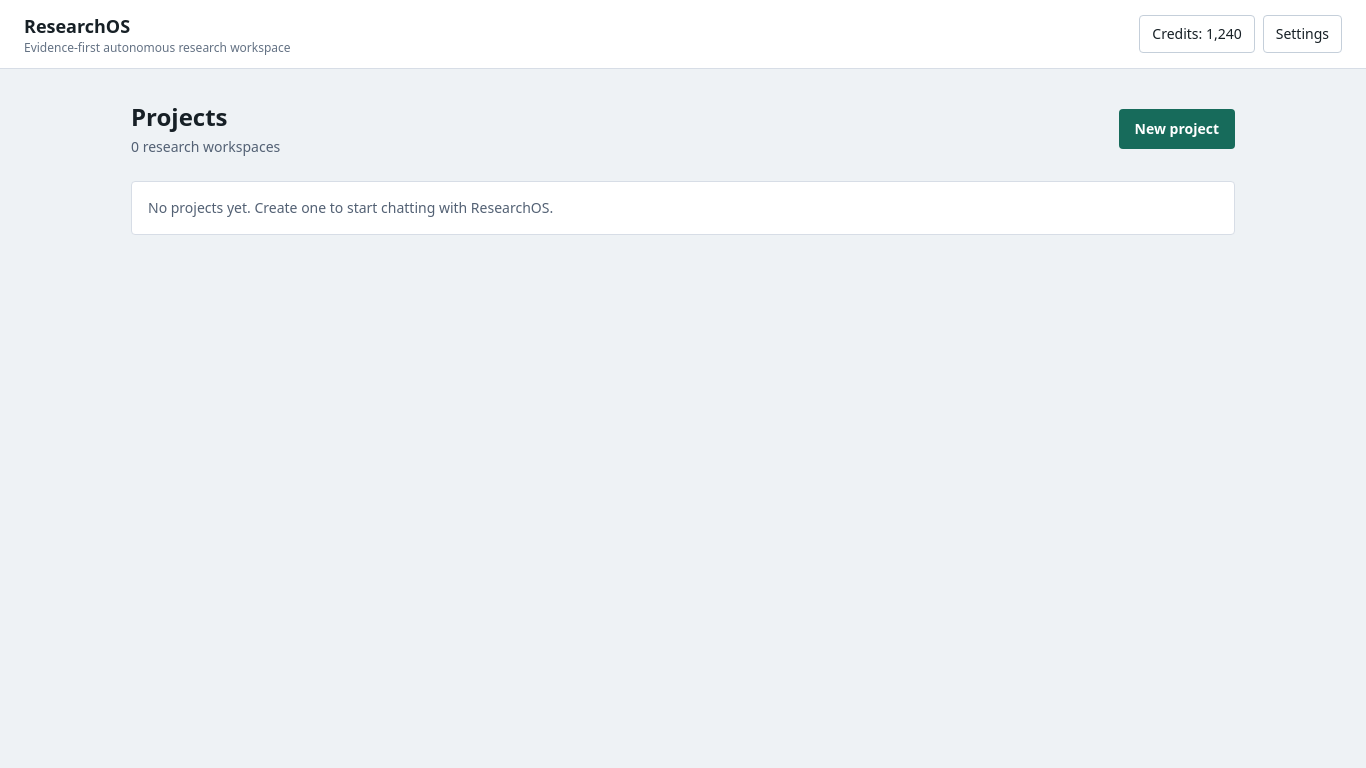
Scenario: creates a project from the in-page dialog
This screenshot has width=1366, height=768.
Expected: the text "No projects yet. Create one to start chatting with ResearchOS." is shown, [131, 181, 1235, 235]
Click the button "New project". click: (1177, 129)
box: [1119, 109, 1235, 149]
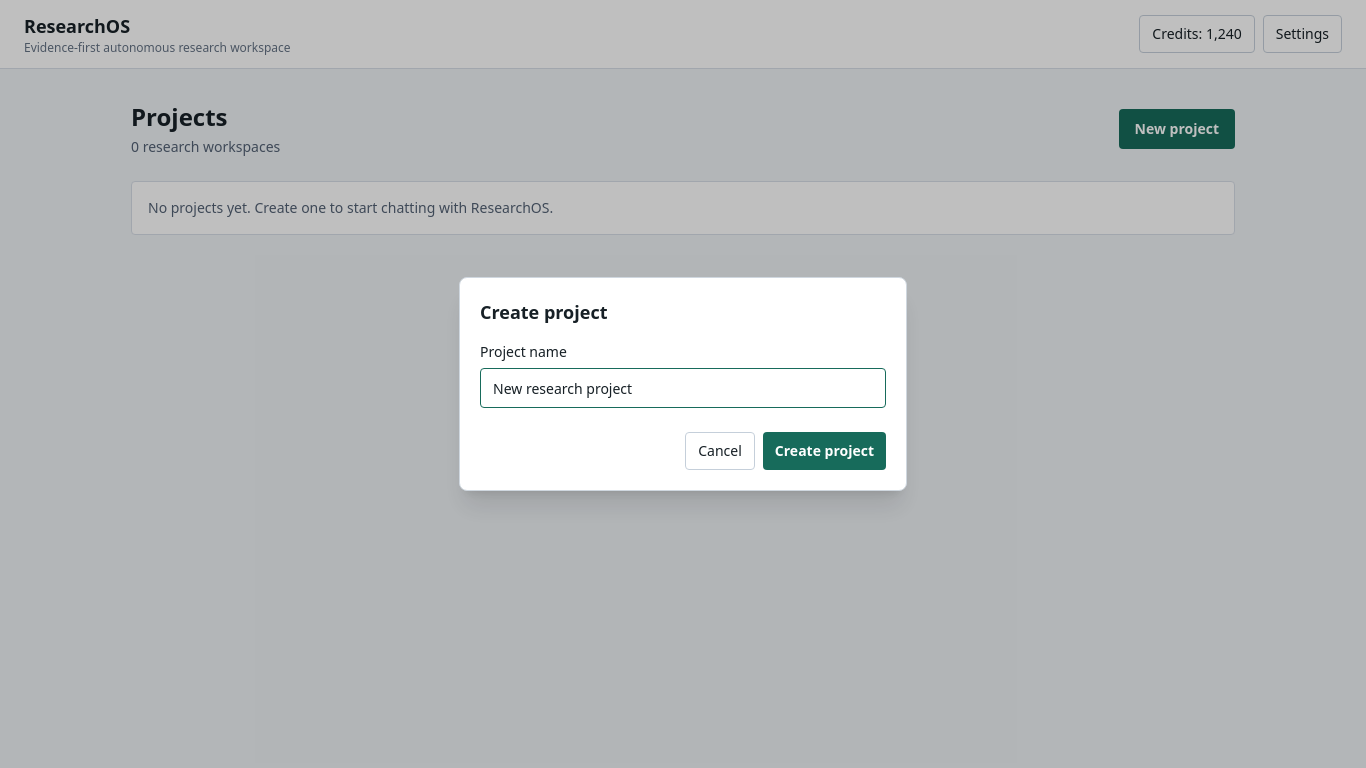
Replace the text in the field named "New project name" with "Browser QA". click: (683, 388)
box: [480, 368, 886, 408]
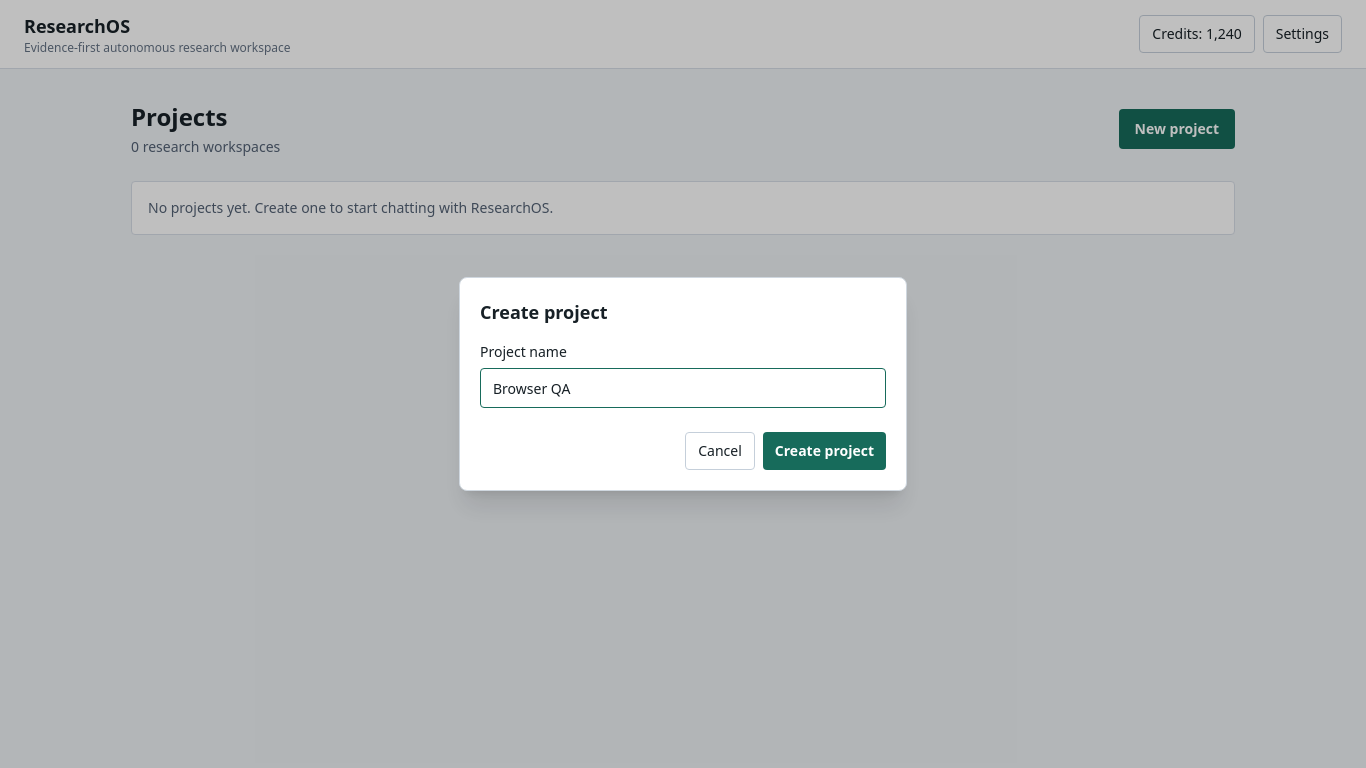
Click the button "Create project". click: (824, 451)
box: [763, 432, 886, 470]
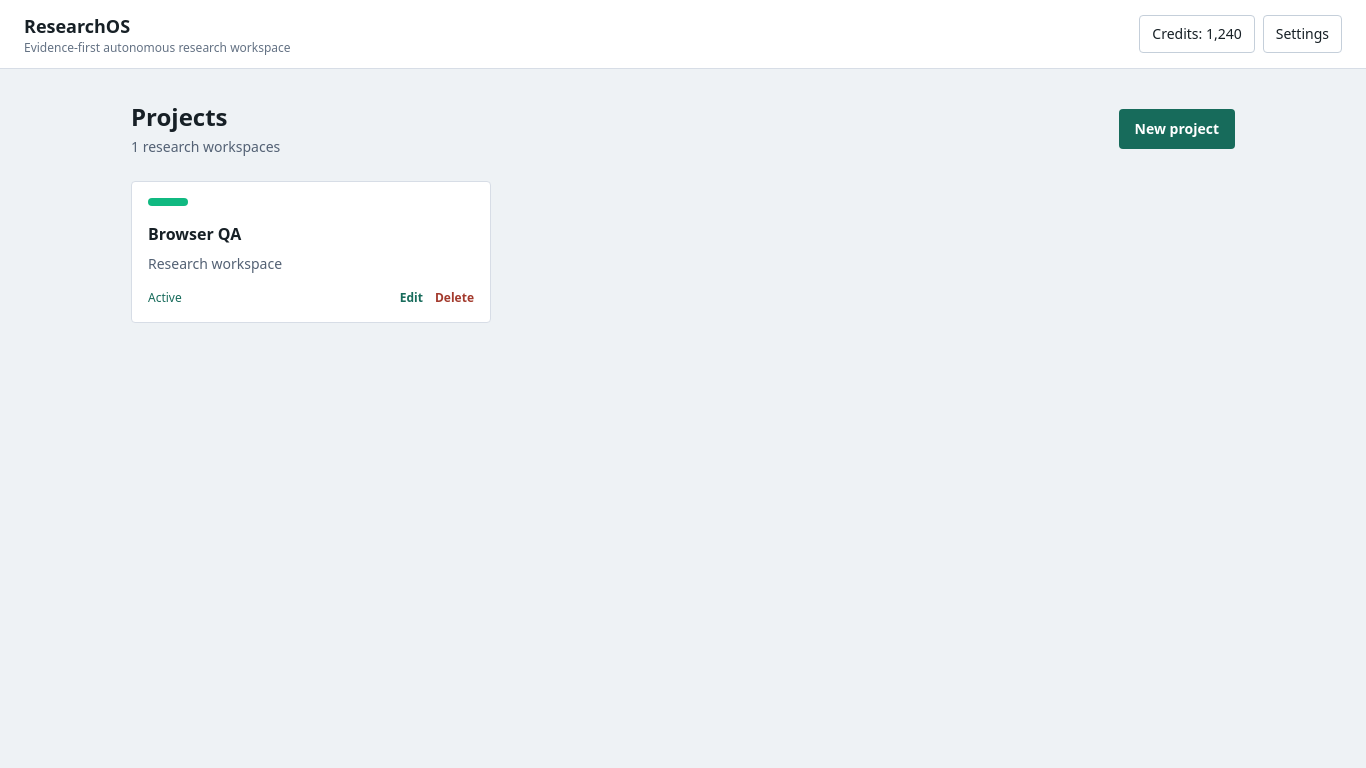
Expected: the link "Browser QA" is shown, [148, 223, 241, 245]
Expected: the heading "Create project" is gone
